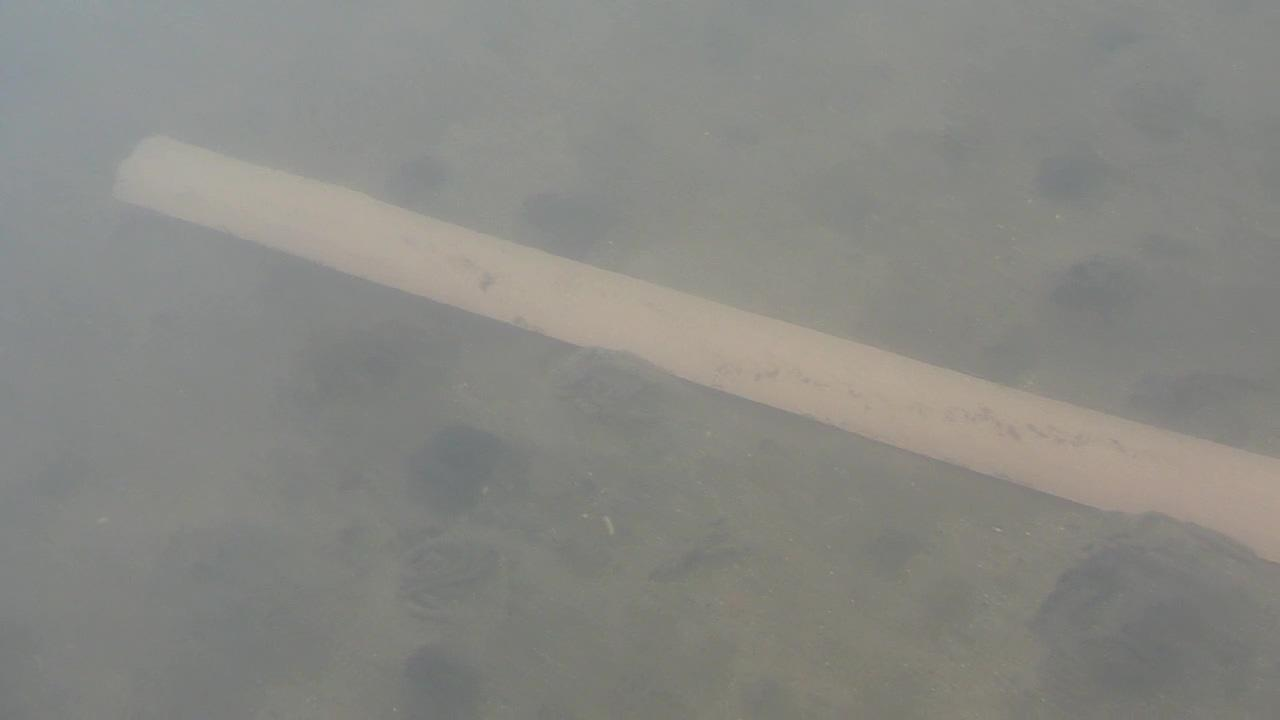wood: (106, 131, 1280, 574)
